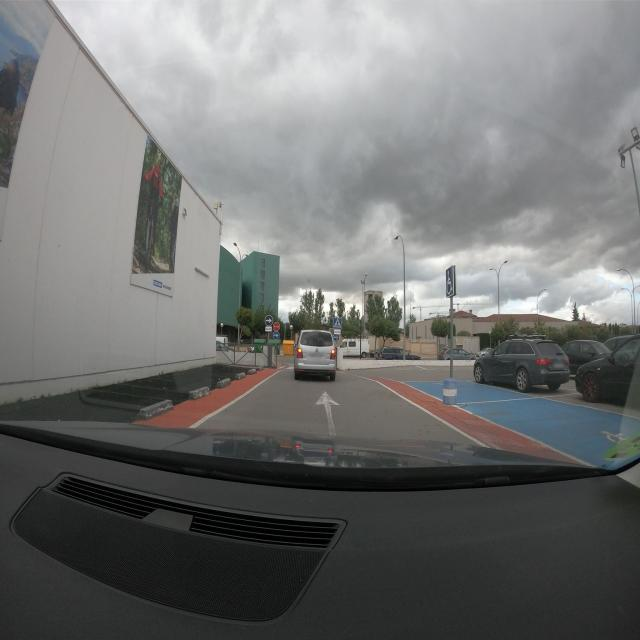car: (473, 336, 571, 392), (575, 335, 640, 410), (293, 329, 337, 380), (560, 339, 613, 378), (602, 334, 640, 354), (440, 347, 474, 360), (378, 346, 404, 361), (476, 347, 496, 359), (405, 351, 422, 360)
